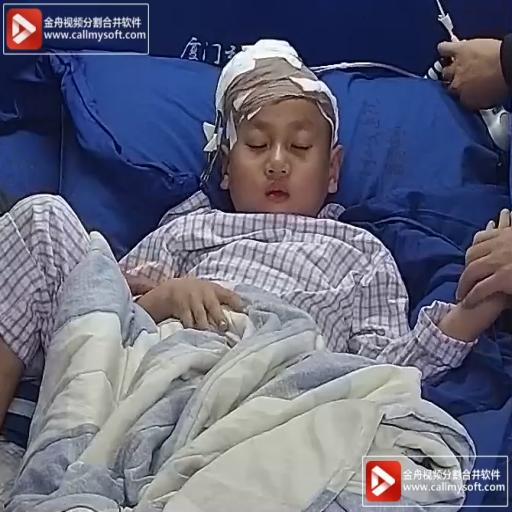Seizure: (211, 59, 363, 215)
